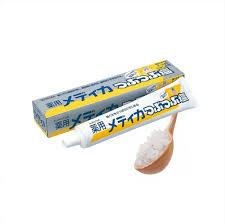toothpaste: (60, 77, 197, 153)
